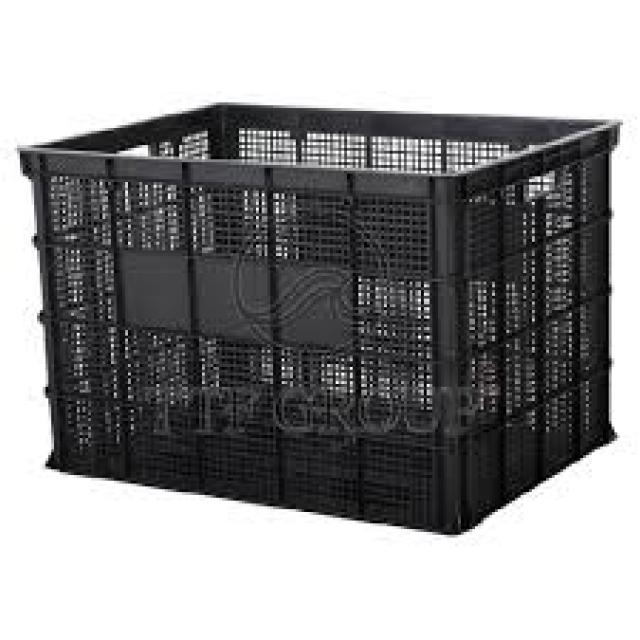basket: (5, 97, 628, 540)
